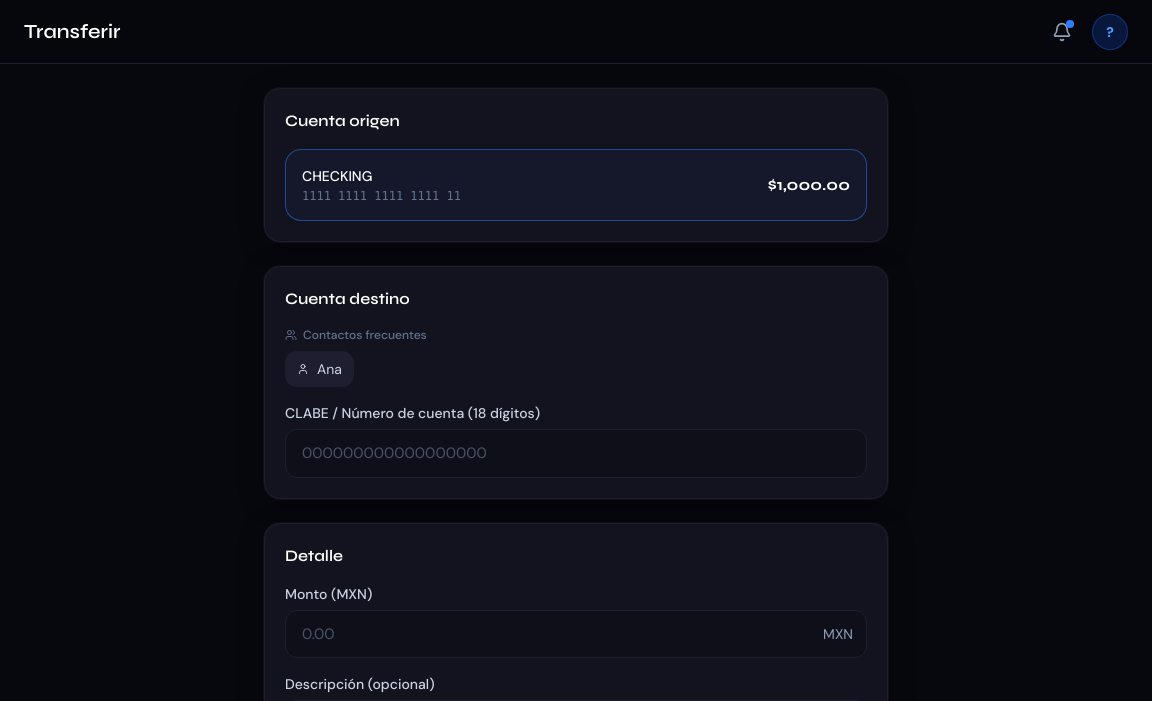
it: TransferPage — form step › shows frequent contacts and selecting one fills the destination + validates it
Expected: the text "CHECKING" is shown, [302, 167, 372, 185]
Step 1. Click the button "Ana" → click(320, 369), box [285, 351, 354, 387]
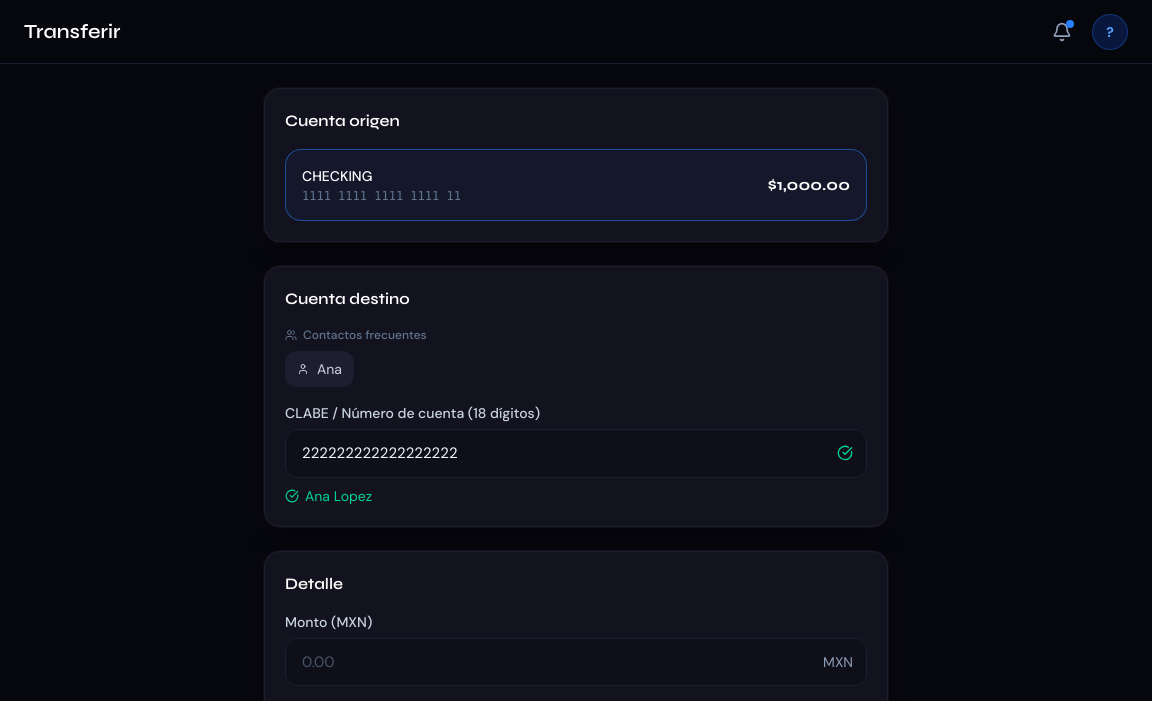
Expected: the text "Ana Lopez" is shown, [285, 486, 372, 504]
